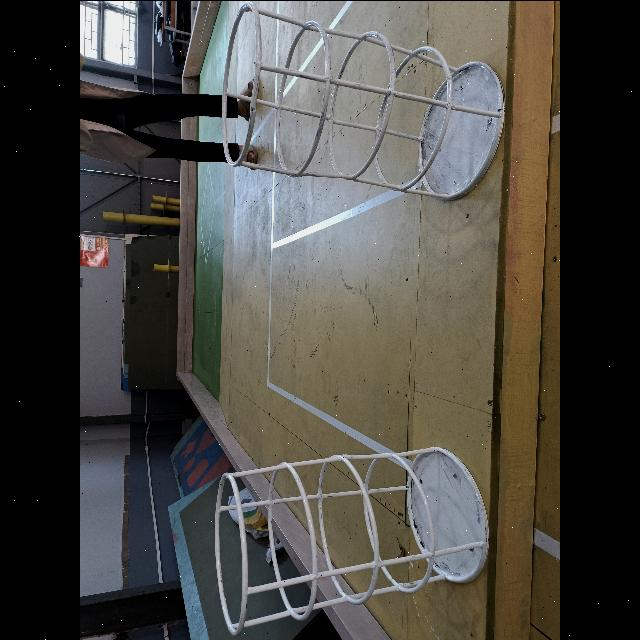S: (220, 0, 506, 202), (213, 442, 491, 635)
